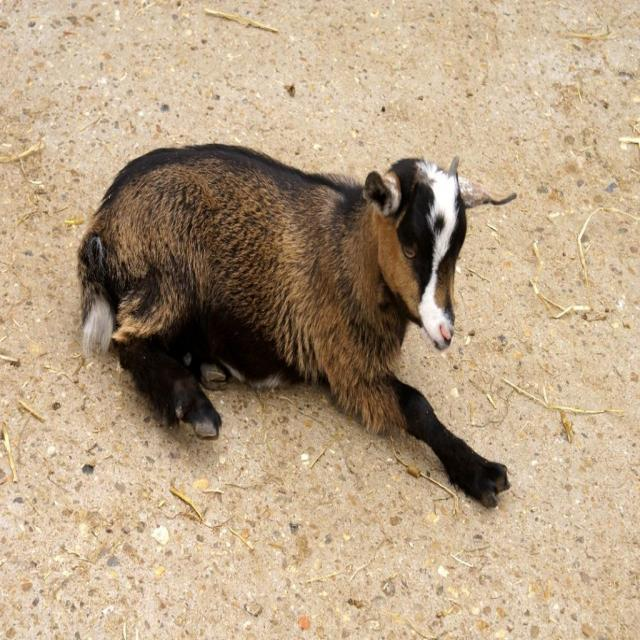Goat: (77, 156, 518, 509)
